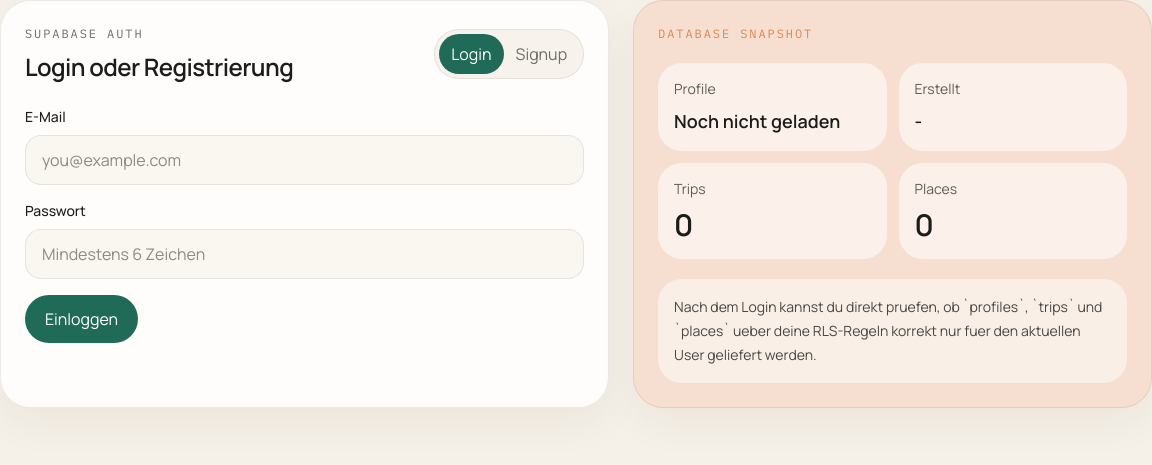
AccountAuthPanel › shows signup feedback when no session is returned
This screenshot has width=1152, height=465.
Click the button "Signup": [541, 54] box [504,34,579,74]
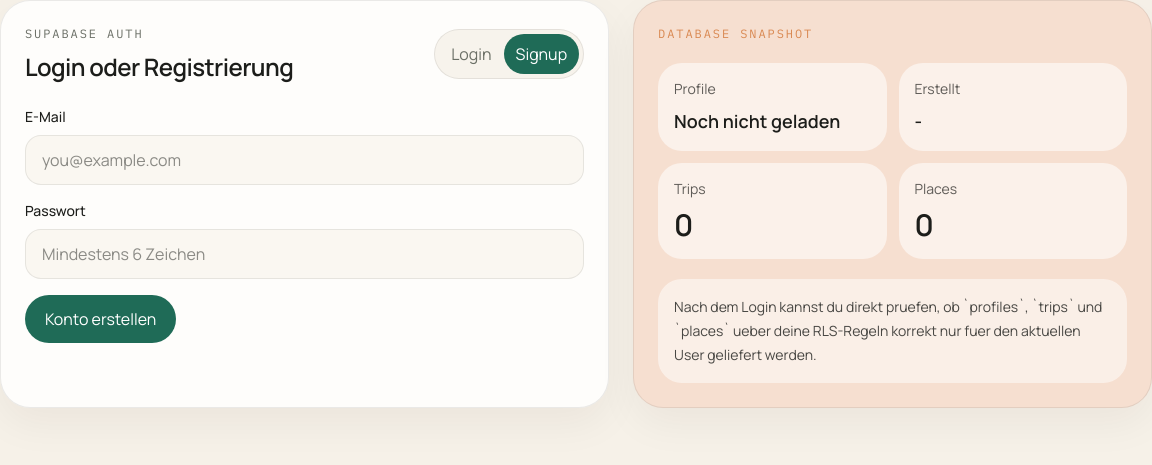
In the field labelled "E-Mail": [305, 160] box [25,135,584,185], type "new@example.com"
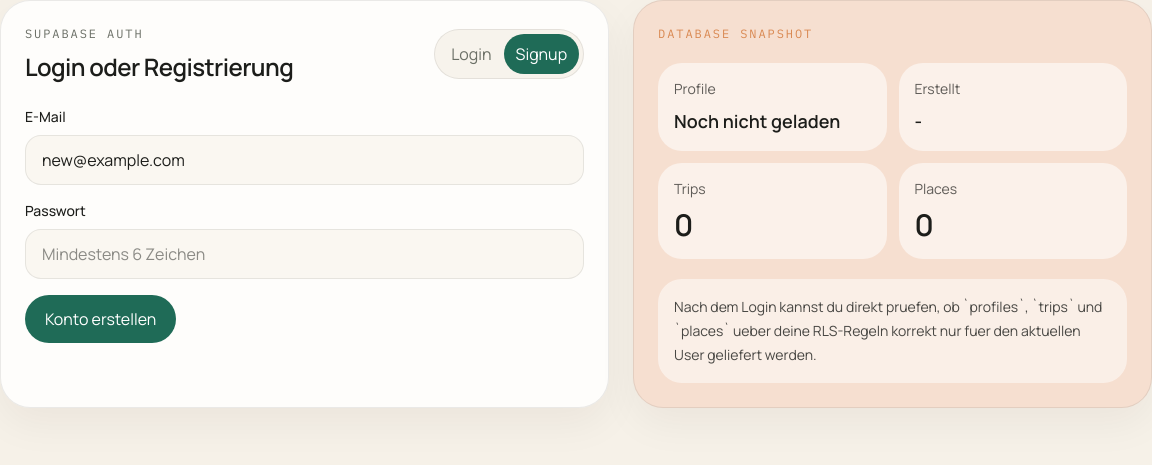
In the password field labelled "Passwort": [305, 254] box [25,229,584,279], type "secret123"
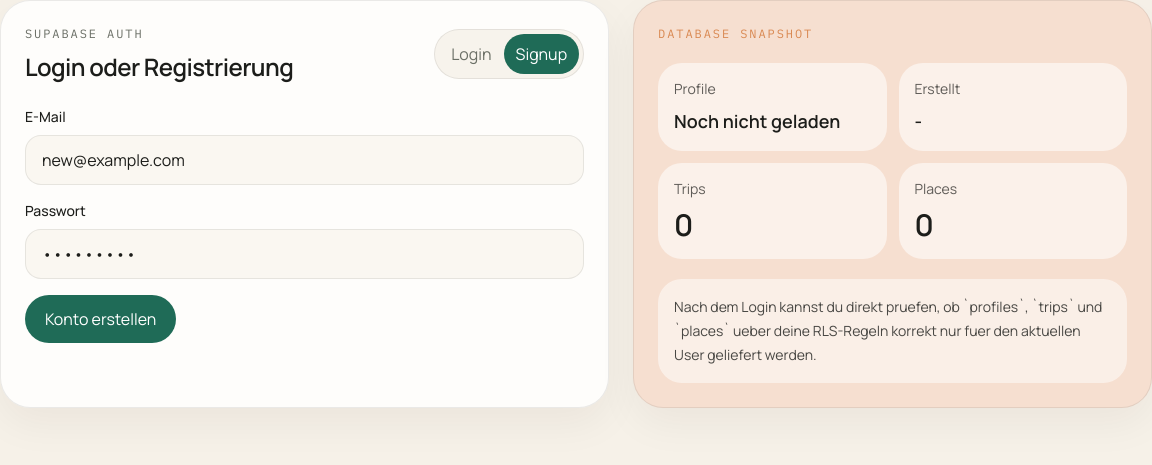
Click the button "Konto erstellen": [101, 319] box [25,295,176,343]
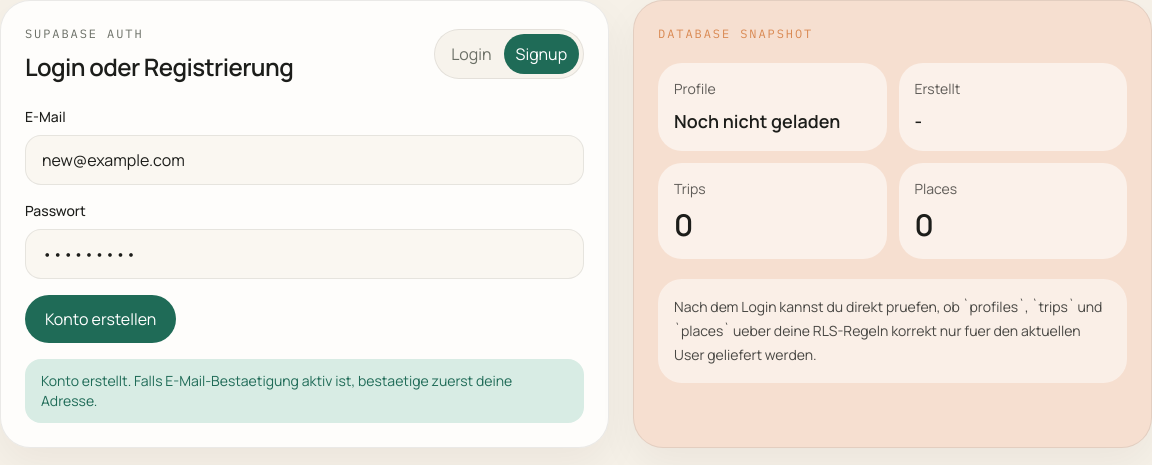
expect the text "Konto erstellt. Falls E-Mail-Bestaetigung aktiv ist" is shown: met, box [41,371,512,410]
